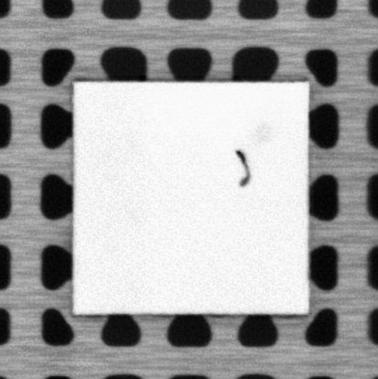DIE_INK: (233, 150, 252, 186)
